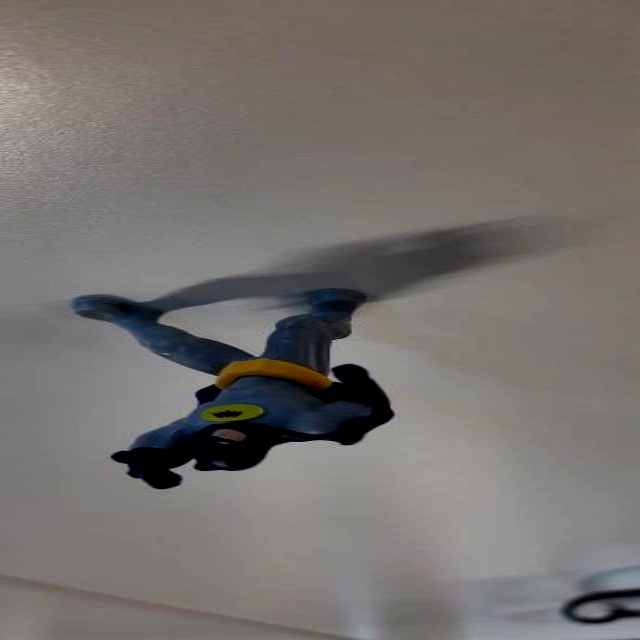Batman: (69, 243, 469, 505)
